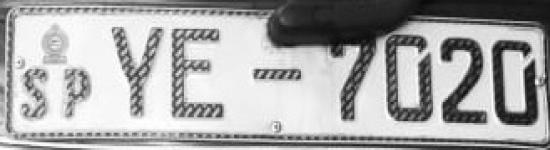-: (251, 61, 304, 85)
0: (491, 29, 547, 135), (382, 28, 438, 128)
2: (439, 28, 492, 133)
7: (328, 21, 384, 133)
E: (166, 21, 240, 128)
P: (60, 66, 103, 128)
S: (20, 64, 56, 127)
Y: (107, 21, 167, 126)
